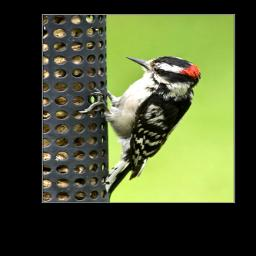Woodpecker: (83, 53, 201, 194)
